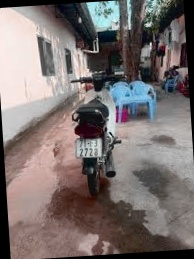Bien-so: (74, 134, 103, 154)
